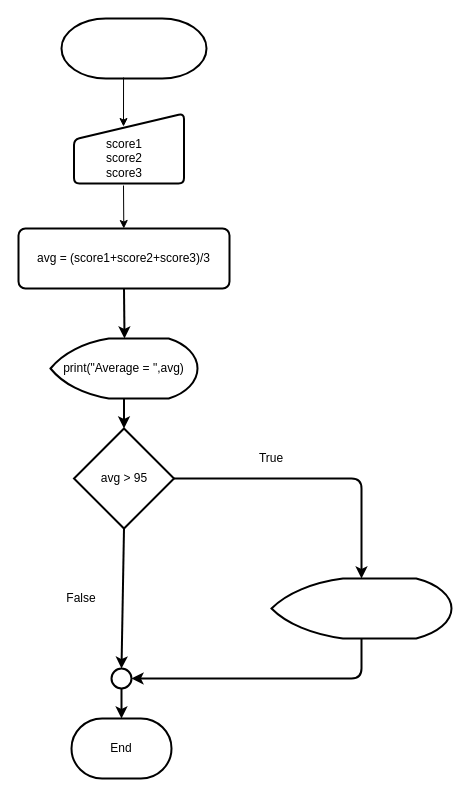
Some shapes in this 469 by 796 pixel diagram are drawn without their labels. Each missing label, with the centre of its shape:
Begin: the point at 133,48
print("Congratulate"): the point at 361,608
